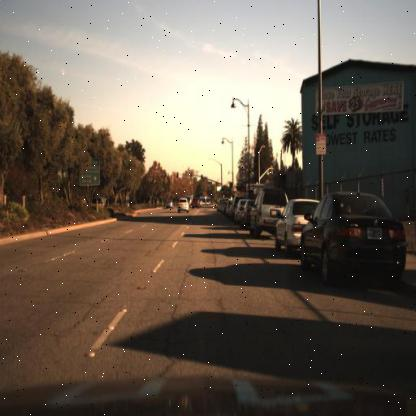car: (272, 194, 324, 262), (249, 183, 292, 240), (88, 193, 106, 213), (178, 193, 192, 213), (188, 194, 201, 210), (165, 196, 173, 214)
trafficLight-Green: (188, 172, 194, 182), (200, 170, 205, 182), (219, 185, 224, 197)
